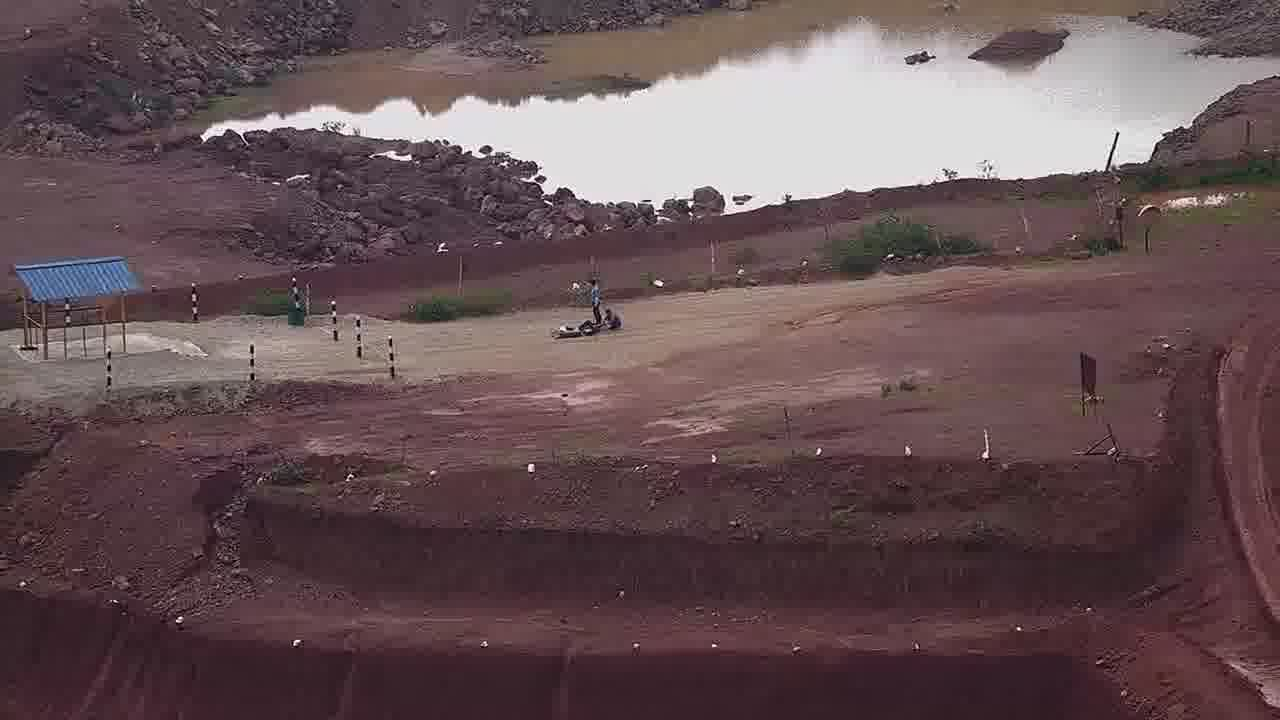person: (586, 278, 603, 327), (604, 306, 624, 330)
